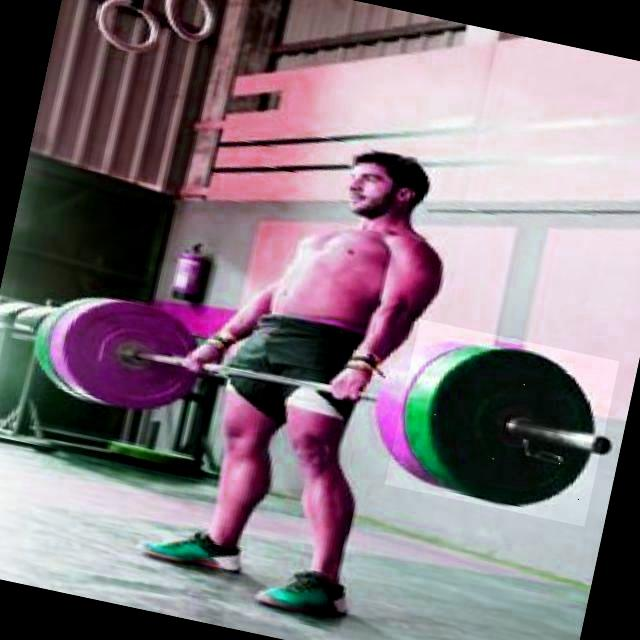barbell: (385, 320, 620, 527)
